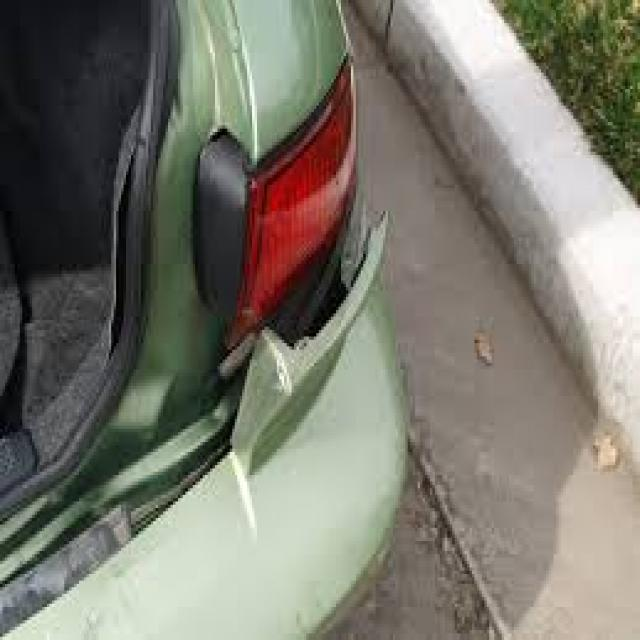minor: (188, 135, 426, 423)
